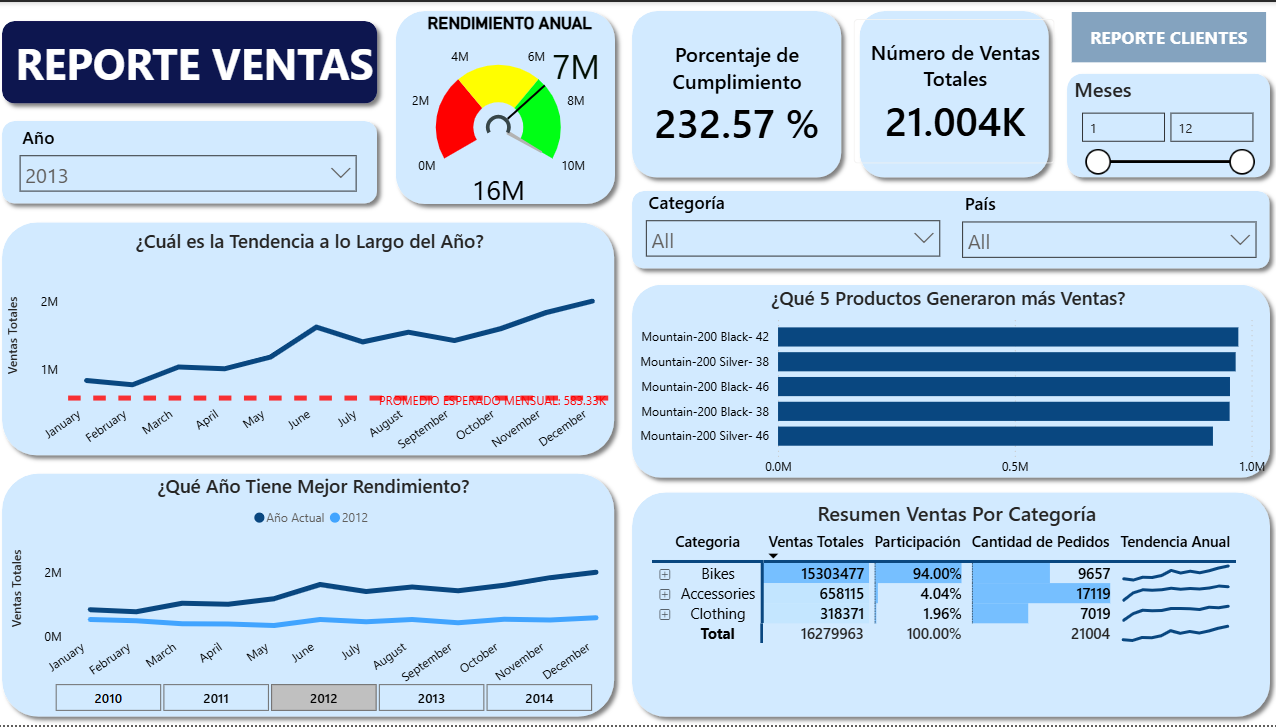

The page's visual inventory and layout, read from the dashboard file:
{"tool":"powerbi","page":{"name":"Reporte Ventas","canvas":[1280,720],"ordinal":0},"visuals":[{"type":"group","id":"g1","title":"Group 1","box":[0,0,1280,720],"z":0},{"type":"shape","box":[0,460,627.1,260],"z":0,"group":"g1"},{"type":"slicer","title":"FILTRO PAIS","fields":{"Values":["dim_clientes.pais"]},"box":[954.3,184.3,312.9,71.4],"z":1000},{"type":"shape","box":[0,210,627.1,250],"z":1000,"group":"g1"},{"type":"slicer","title":"FILTRO CATEGORIA","fields":{"Values":["dim_productos.categoria"]},"box":[640,182.9,312.9,72.9],"z":2000},{"type":"shape","box":[627.1,272.9,652.9,210],"z":2000,"group":"g1"},{"type":"slicer","title":"FILTRO AÑO","fields":{"Values":["dim_fecha.Año"]},"box":[15.7,118.6,355.7,84.3],"z":3000},{"type":"shape","box":[627.1,478.6,652.9,241.4],"z":3000,"group":"g1"},{"type":"shape","box":[391.2,0,236.2,210],"z":4000,"group":"g1"},{"type":"actionButton","title":"RESUMEN CLIENTES","box":[1074.1,9.7,193.4,50.1],"z":4000},{"type":"shape","box":[627.5,0,226.2,183.8],"z":5000,"group":"g1"},{"type":"textbox","title":"TITULO","box":[17.1,25.7,384.3,74.3],"z":5000},{"type":"Tachometer1474636471549","title":"RENDIMIENTO ANUAL","fields":{"Y":["Sum(fact_ventas.importe_venta)"],"TargetValue":["Table.VALOR_OBJETIVO"],"StartValue":["Table.VALOR_INCIAL_1"],"EndValue":["Table.VALOR_FINAL"],"Range2StartValue":["Table.INICIO_RANGO_2"],"Range3StartValue":["Table.INICIO_RANGO_3"]},"box":[386.2,11.2,255,196.2],"z":6000},{"type":"shape","box":[627.5,178.8,652.5,95],"z":6000,"group":"g1"},{"type":"cardVisual","fields":{"Data":["TABLA_METRICAS.PORCENTAJE_CUMPLIMIENTO"]},"box":[627.1,0,227.1,184.3],"z":7000},{"type":"shape","box":[853.8,0,206.2,183.8],"z":7000,"group":"g1"},{"type":"cardVisual","fields":{"Data":["Count(fact_ventas.numero_orden)"]},"box":[840,0,234.3,178.6],"z":8000},{"type":"shape","box":[0,110,391.2,100],"z":8000,"group":"g1"},{"type":"shape","box":[1060,62.5,220,121.2],"z":9000,"group":"g1"},{"type":"slicer","title":"Meses","fields":{"Values":["dim_fecha.Número Mes"]},"box":[1071.4,72.9,192.9,104.3],"z":9000},{"type":"shape","box":[0,10,391.4,100],"z":10000,"group":"g1"},{"type":"lineChart","title":"¿Cuál es la Tendencia a lo Largo del Año?","fields":{"Y":["Sum(fact_ventas.importe_venta)"],"Category":["dim_fecha.Nombre Mes"]},"box":[10,225.7,610,242.9],"z":10000},{"type":"clusteredBarChart","title":"¿Qué 5 Productos Generaron más Ventas? ","fields":{"Category":["dim_productos.nombre_producto"],"Y":["Sum(fact_ventas.importe_venta)"]},"box":[628.9,281.1,642.2,200],"z":11000},{"type":"pivotTable","title":"Resumen Ventas Por Categoría","fields":{"Rows":["dim_productos.categoria","dim_productos.sub_categoria","dim_productos.nombre_producto"],"Values":["Sum(fact_ventas.importe_venta)","Divide(Sum(fact_ventas.importe_venta), ScopedEval(Sum(fact_ventas.importe_venta), []))","Count(fact_ventas.numero_orden)","SparklineData(Sum(fact_ventas.importe_venta)_[dim_fecha.Número Mes])"]},"box":[650,495.7,617.1,195.7],"z":12000},{"type":"lineChart","title":"¿Qué Año Tiene Mejor Rendimiento?","fields":{"Y":["Sum(fact_ventas.importe_venta)","TABLA_METRICAS.VENTAS_2012"],"Category":["dim_fecha.Nombre Mes"]},"box":[14.3,468.6,610,222.9],"z":13000},{"type":"slicer","fields":{"Values":["Ventas Por Año.Ventas Por Año"]},"box":[35.7,671.4,584.3,40],"z":14000}]}

Visuals, with their boxes in screenshot pixels (x1, y1, x2, y2), scaled from the page's 1280x720 canvas onto the 1276x728 screenshot:
"Group 1" group: <bbox>0, 0, 1275, 727</bbox>
shape: <bbox>0, 465, 625, 727</bbox>
"FILTRO PAIS" slicer: <bbox>951, 186, 1263, 259</bbox>
shape: <bbox>0, 212, 625, 465</bbox>
"FILTRO CATEGORIA" slicer: <bbox>638, 185, 950, 259</bbox>
shape: <bbox>625, 276, 1275, 488</bbox>
"FILTRO AÑO" slicer: <bbox>16, 120, 370, 205</bbox>
shape: <bbox>625, 484, 1275, 727</bbox>
shape: <bbox>390, 0, 625, 212</bbox>
"RESUMEN CLIENTES" actionButton: <bbox>1071, 10, 1264, 60</bbox>
shape: <bbox>626, 0, 851, 186</bbox>
"TITULO" textbox: <bbox>17, 26, 400, 101</bbox>
"RENDIMIENTO ANUAL" Tachometer1474636471549: <bbox>385, 11, 639, 210</bbox>
shape: <bbox>626, 181, 1275, 277</bbox>
cardVisual - TABLA_METRICAS.PORCENTAJE_CUMPLIMIENTO: <bbox>625, 0, 852, 186</bbox>
shape: <bbox>851, 0, 1057, 186</bbox>
cardVisual - Count(fact_ventas.numero_orden): <bbox>837, 0, 1071, 181</bbox>
shape: <bbox>0, 111, 390, 212</bbox>
shape: <bbox>1057, 63, 1275, 186</bbox>
"Meses" slicer: <bbox>1068, 74, 1260, 179</bbox>
shape: <bbox>0, 10, 390, 111</bbox>
"¿Cuál es la Tendencia a lo Largo del Año?" lineChart: <bbox>10, 228, 618, 474</bbox>
"¿Qué 5 Productos Generaron más Ventas? " clusteredBarChart: <bbox>627, 284, 1267, 486</bbox>
"Resumen Ventas Por Categoría" pivotTable: <bbox>648, 501, 1263, 699</bbox>
"¿Qué Año Tiene Mejor Rendimiento?" lineChart: <bbox>14, 474, 622, 699</bbox>
slicer - Ventas Por Año.Ventas Por Año: <bbox>36, 679, 618, 719</bbox>
